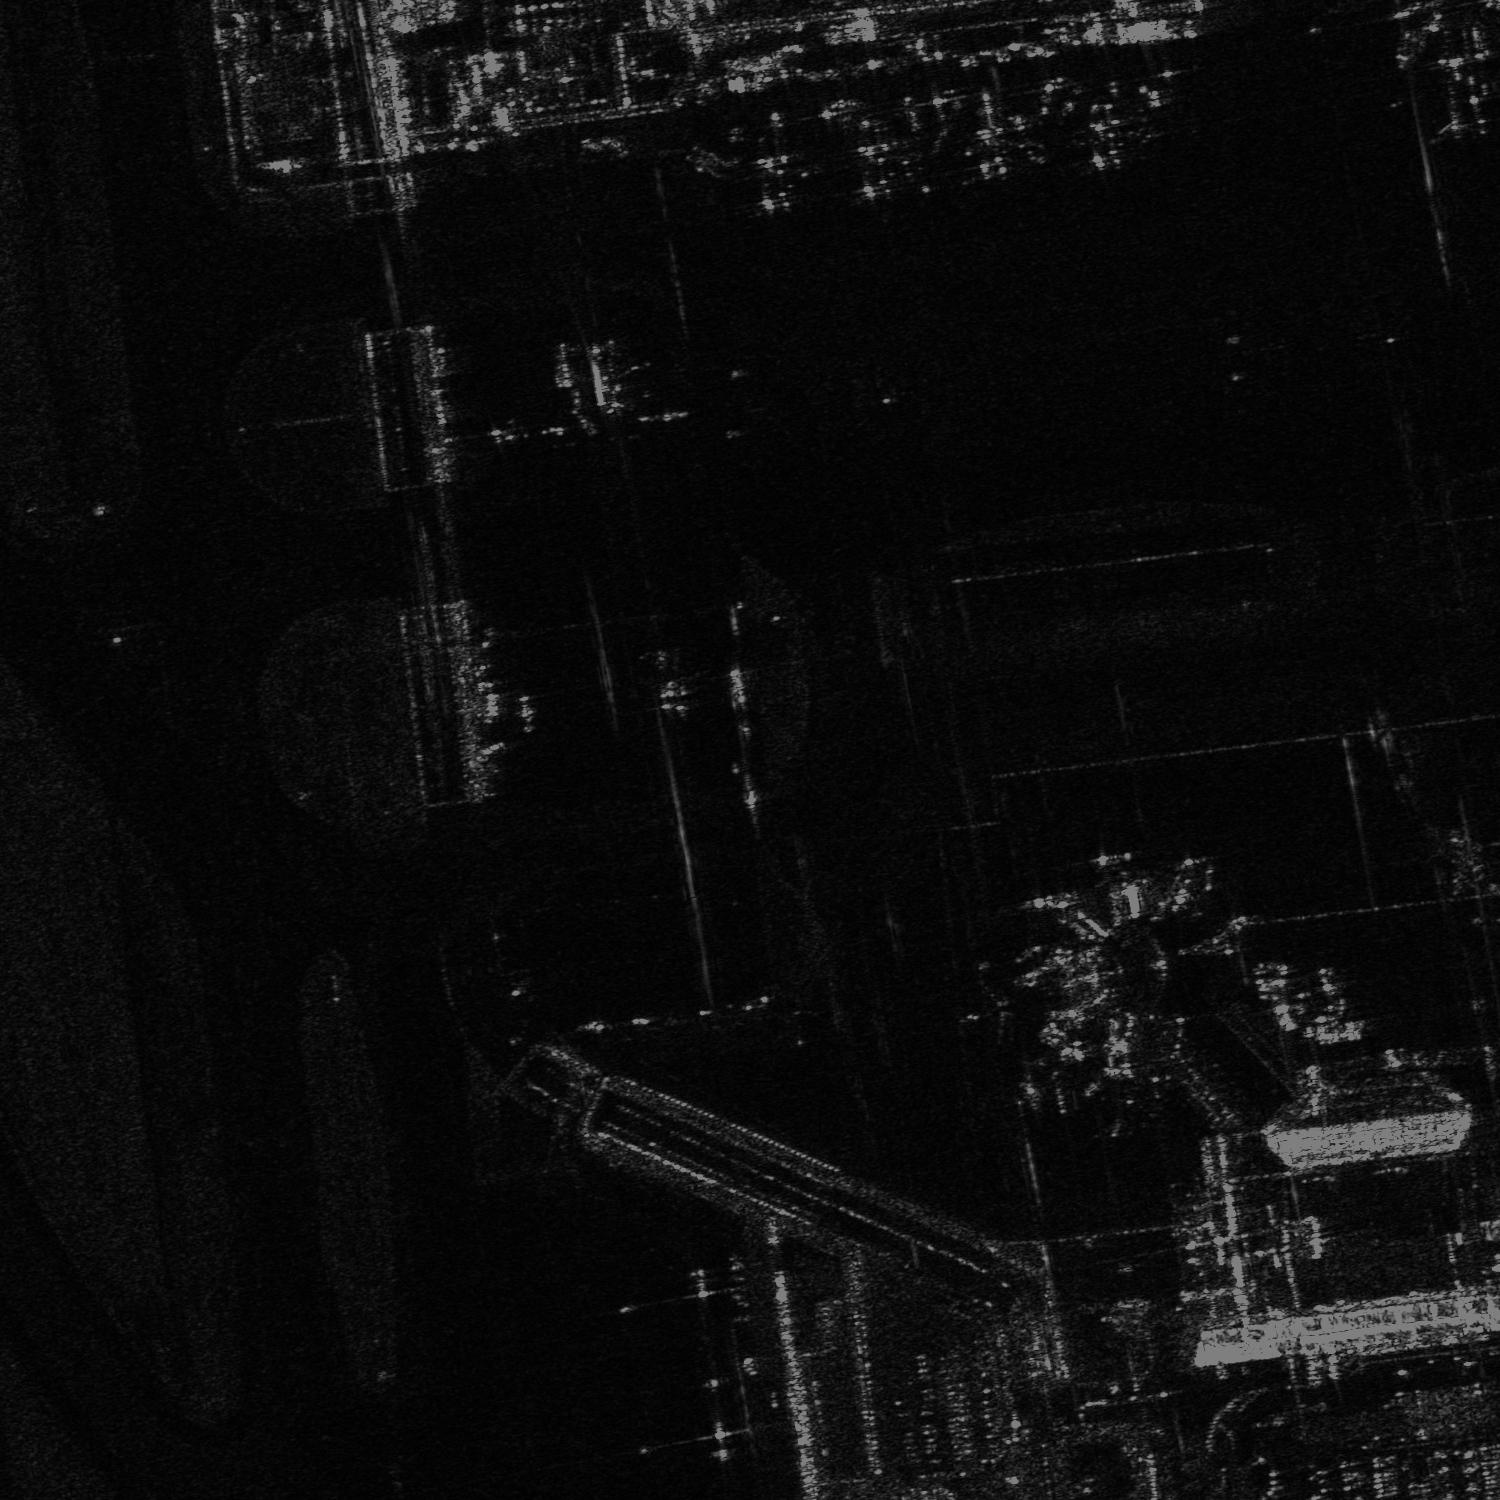A220: (953, 977, 1023, 1045)
Boeing787: (957, 93, 1043, 188), (738, 113, 816, 210), (839, 107, 911, 194), (1076, 88, 1141, 170)
other: (1389, 45, 1499, 146)
